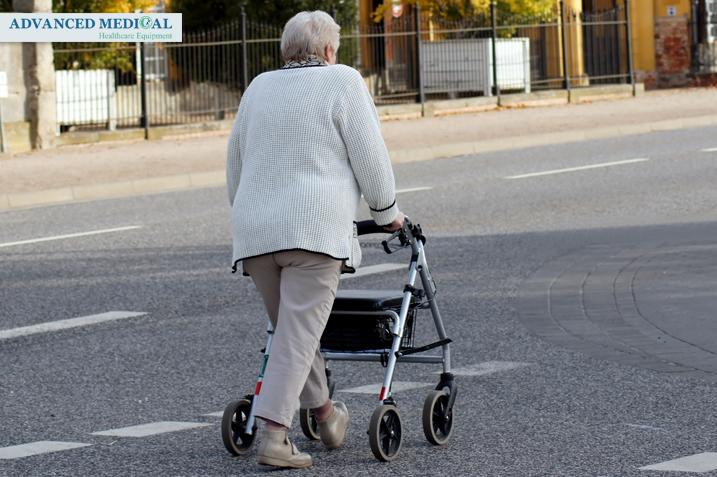walking_frame: (221, 11, 460, 469)
